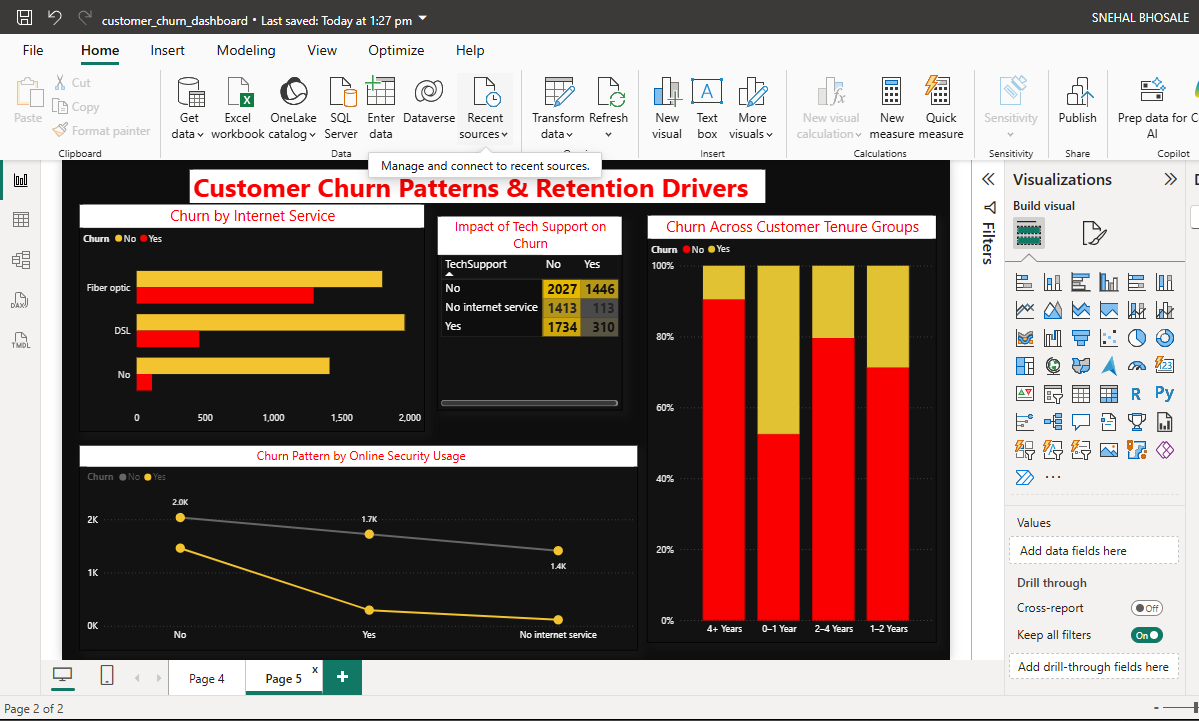

What the dashboard file says about the page in this screenshot:
{"tool":"powerbi","page":{"name":"Page 5","canvas":[1280,720],"ordinal":1},"visuals":[{"type":"lineChart","title":"Churn Pattern by Online Security Usage","fields":{"Category":["customer_churn.OnlineSecurity"],"Y":["CountNonNull(customer_churn.customerID)"],"Series":["customer_churn.Churn"]},"box":[24.5,409.8,804.9,295.7],"z":0},{"type":"clusteredBarChart","title":"Churn by Internet Service","fields":{"Category":["customer_churn.InternetService"],"Y":["CountNonNull(customer_churn.customerID)"],"Series":["customer_churn.Churn"]},"box":[24.5,63.8,498.2,327.6],"z":1000},{"type":"pivotTable","title":"Impact of Tech Support on Churn","fields":{"Rows":["customer_churn.TechSupport"],"Columns":["customer_churn.Churn"],"Values":["CountNonNull(customer_churn.customerID)"]},"box":[539.9,81,267.5,279.8],"z":2000},{"type":"hundredPercentStackedColumnChart","title":"Churn Across Customer Tenure Groups","fields":{"Series":["customer_churn.Churn"],"Category":["customer_churn.Tenure Group"],"Y":["CountNonNull(customer_churn.customerID)"]},"box":[841.7,79.8,417.2,616],"z":3000},{"type":"textbox","title":"Customer Churn Patterns & Retention Drivers","box":[182.9,13,830.9,50.4],"z":4000}]}

Visuals, with their boxes on the page's 1280x720 design canvas (x1, y1, x2, y2). These are canvas units, not pixel positions in the 1199x721 screenshot, which may show the page scaled, cropped or inside an application window:
"Churn Pattern by Online Security Usage" lineChart: left=24, top=410, right=829, bottom=706
"Churn by Internet Service" clusteredBarChart: left=24, top=64, right=523, bottom=391
"Impact of Tech Support on Churn" pivotTable: left=540, top=81, right=807, bottom=361
"Churn Across Customer Tenure Groups" hundredPercentStackedColumnChart: left=842, top=80, right=1259, bottom=696
"Customer Churn Patterns & Retention Drivers" textbox: left=183, top=13, right=1014, bottom=63
